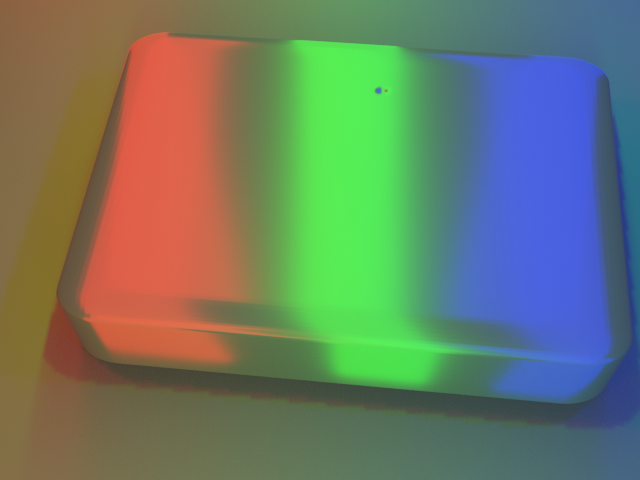dent: (368, 58, 407, 91)
